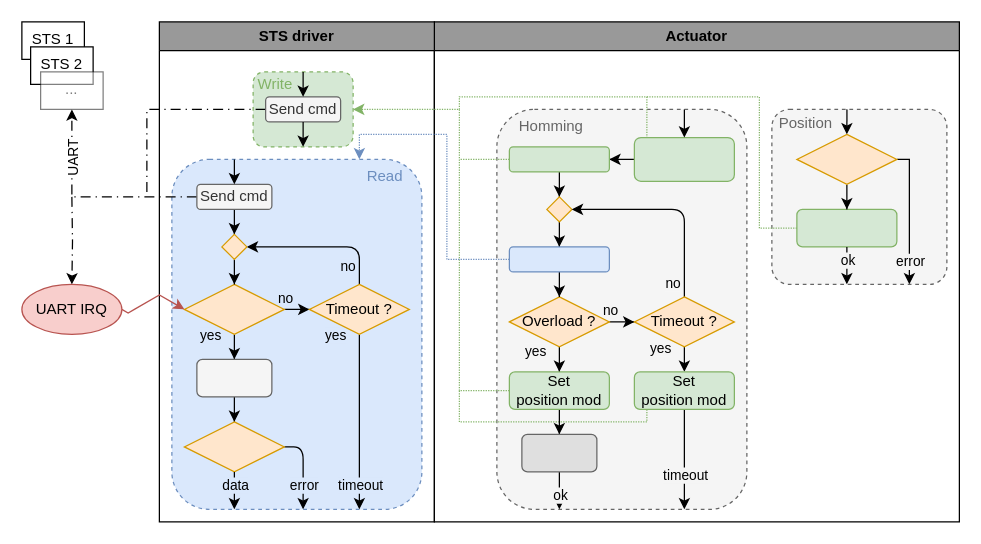
Some shapes in this 981 by 544 pixel diagram are drawn without their labels. Each missing label, with the centre of its shape:
check packet: the point at 234,377
Get load: the point at 558,259
Homed ?: the point at 846,158
Packet ok ?: the point at 233,446
Received ?: the point at 233,308
Set homed: the point at 559,452
Set position: the point at 846,227
Set speed: the point at 558,159
Set speed mod: the point at 683,158
